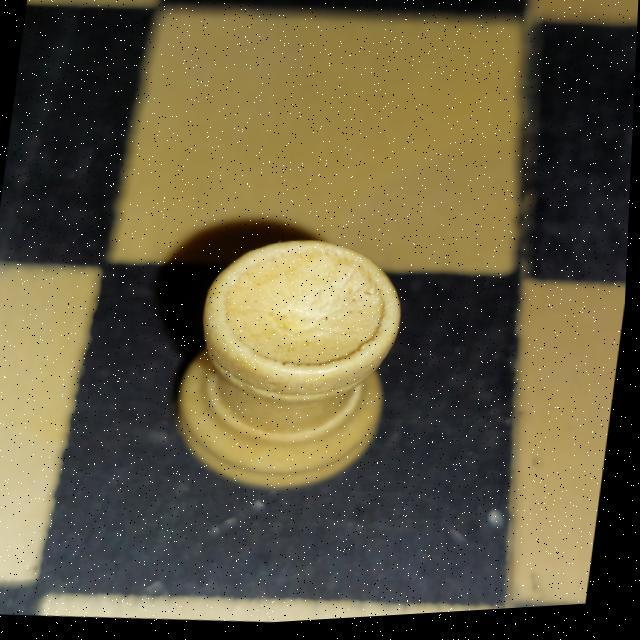white-rook: (161, 222, 428, 516)
